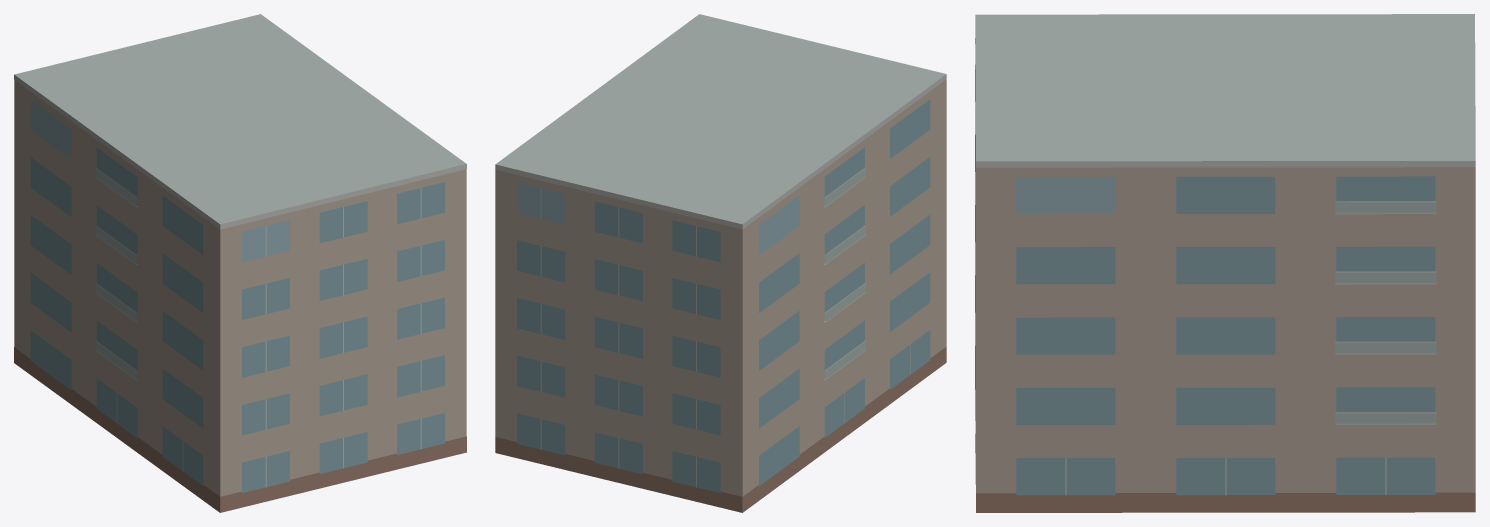
File: survey-upis-32825925.glb
3 views of the same model, side by side, from view 1: azimuth 30°, elevation 25°; view 2: azimuth 150°, elevation 25°; view 3: azimuth 270°, elevation 25° (orthographic). The views are drawn at different scales.
Visible parts, largest first — view 1: survey-upis-32825925.tmp; view 2: survey-upis-32825925.tmp; view 3: survey-upis-32825925.tmp.
Part boxes in pixels (x1=…): survey-upis-32825925.tmp: x1=14, y1=14, x2=466, y2=512; survey-upis-32825925.tmp: x1=495, y1=14, x2=946, y2=512; survey-upis-32825925.tmp: x1=975, y1=14, x2=1475, y2=512.
Bounding box in the file's own units: 12.34 × 13.7 × 17.69.
